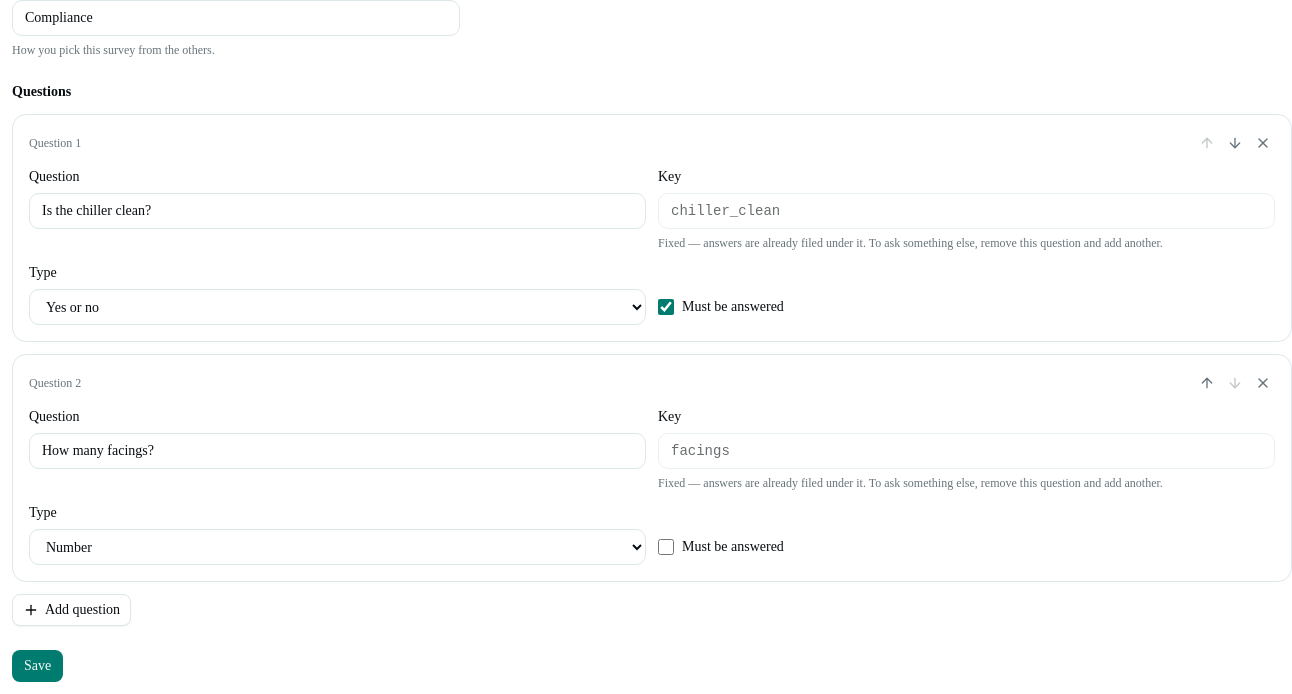
Test case: <SurveyEditor> › writes a new question's key from its text, and stops when the text is edited later
Click the button "Add question" at point(72, 610), box [12,594,131,626]
(page scrolled)
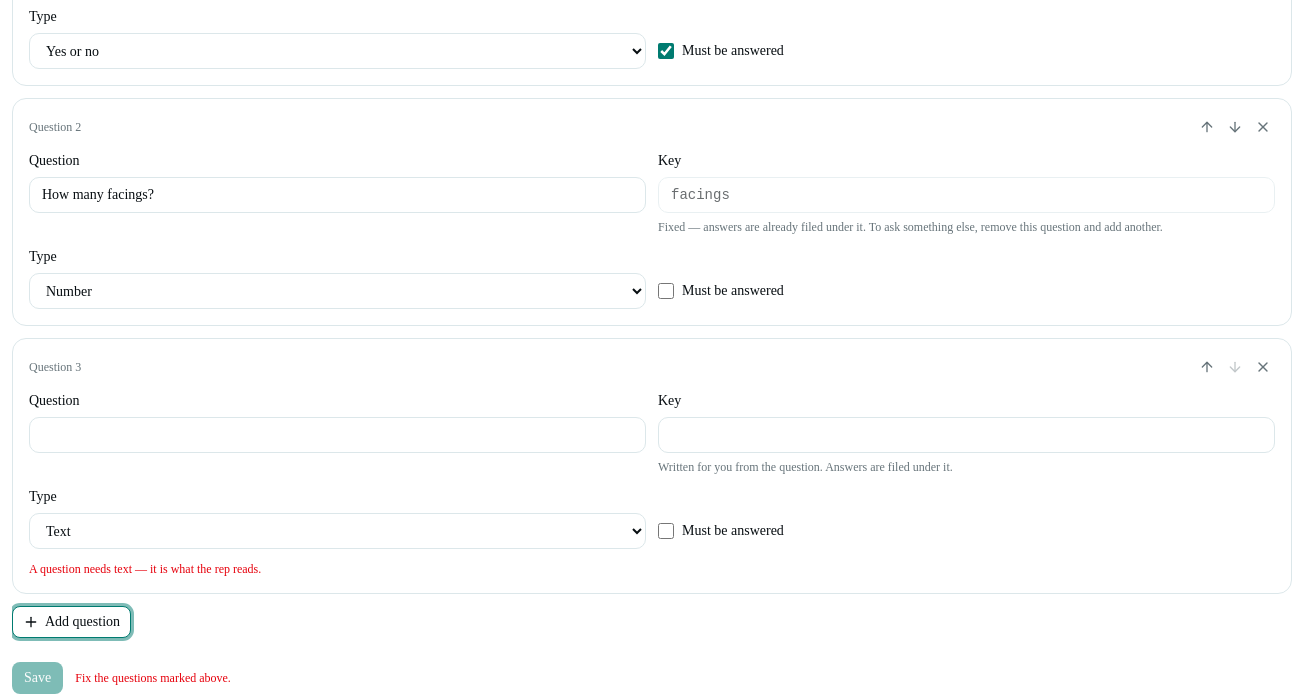
Type "Shelf temperature" into the field labelled "Question" below "Question 3" at point(338, 435), box [29,417,646,453]
(page scrolled)
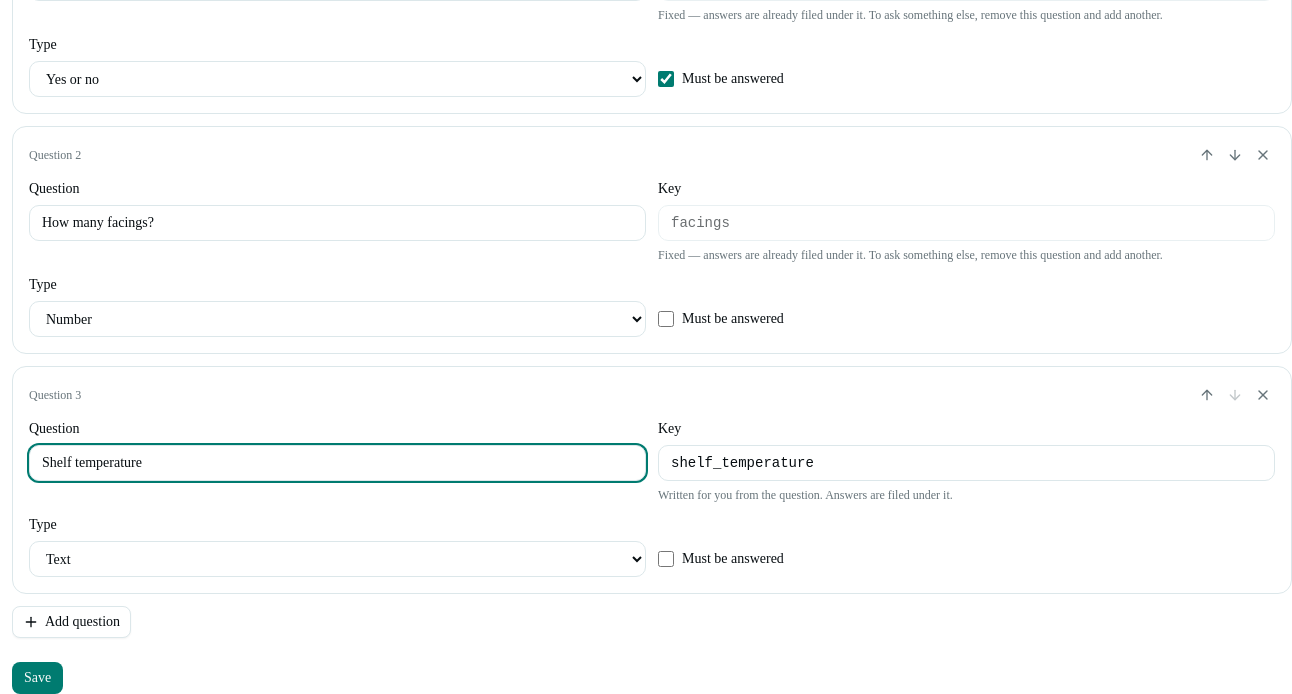
expect the 3rd field labelled "Key" is enabled: met, box [658,445,1275,481]
expect the 3rd field labelled "Key" holds "shelf_temperature": met, box [658,445,1275,481]
